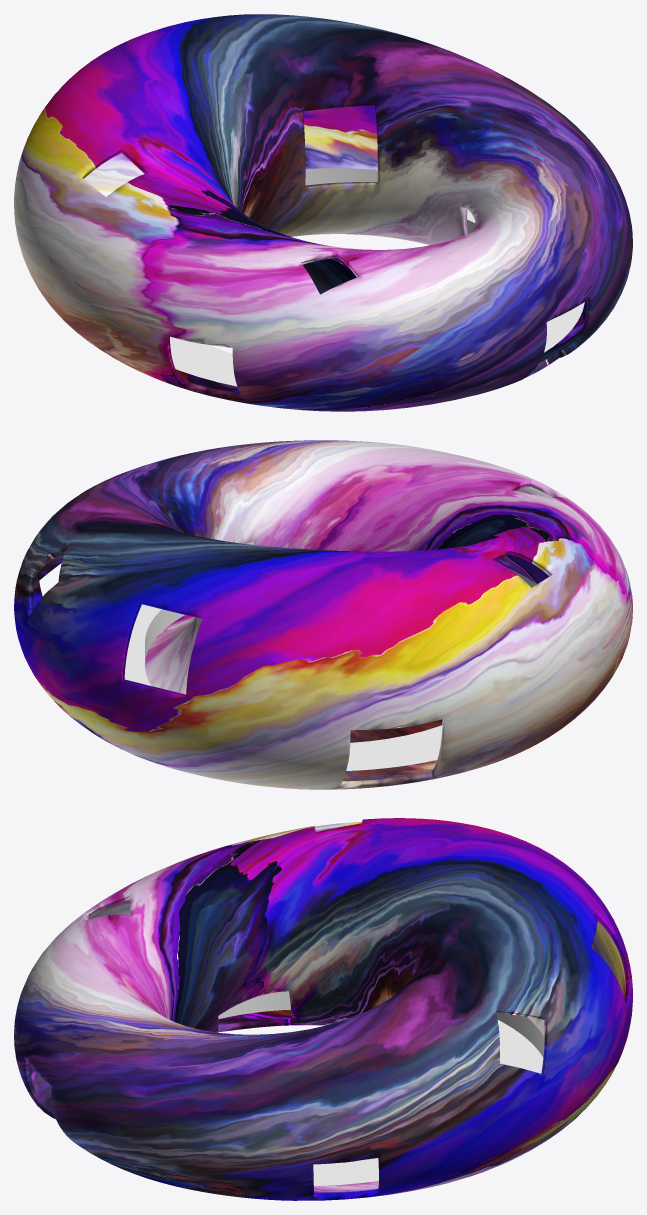
The picture shows the model from 3 angles, top to bottom: view 1: azimuth 30°, elevation 25°; view 2: azimuth 150°, elevation 25°; view 3: azimuth 270°, elevation 25°; orthographic projection. The views are drawn at different scales.
Parts seen in each view (by area): view 1: Solids, Ramps_2, Ramps; view 2: Solids, Ramps_2, Ramps; view 3: Solids, Ramps_2, Ramps.
Boxes of the visible parts, x1=… form: Solids: x1=14, y1=14, x2=632, y2=411; Ramps_2: x1=170, y1=209, x2=584, y2=386; Ramps: x1=305, y1=168, x2=474, y2=233; Solids: x1=14, y1=440, x2=632, y2=789; Ramps_2: x1=124, y1=604, x2=442, y2=770; Ramps: x1=145, y1=541, x2=536, y2=661; Solids: x1=14, y1=818, x2=632, y2=1200; Ramps_2: x1=254, y1=1010, x2=543, y2=1185; Ramps: x1=218, y1=991, x2=544, y2=1056.
Bounding box in the file's own units: 37.68 × 14.58 × 38.68.
2 materials, 2 textured.
